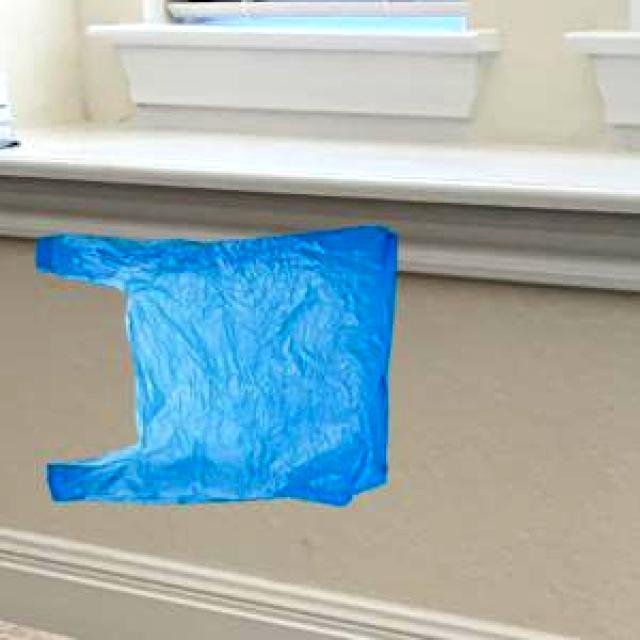Plastic_Bag: (33, 225, 394, 502)
